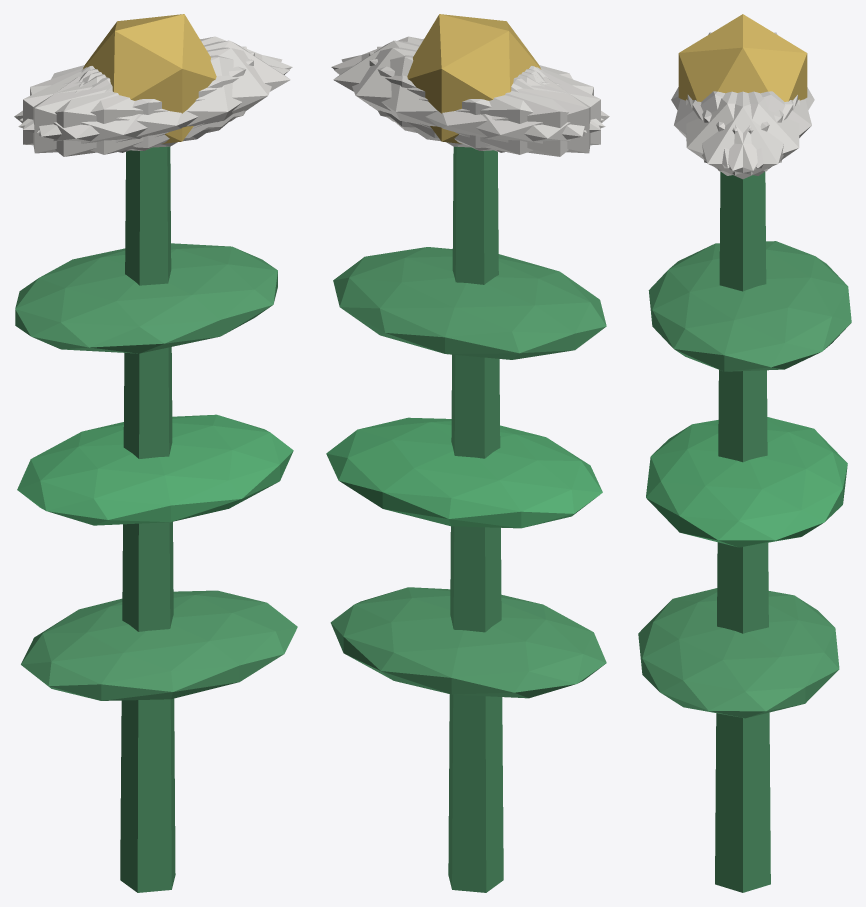
File: diospyros-blancoi.glb
3 renders of one model, left to right at view 1: azimuth 30°, elevation 25°; view 2: azimuth 150°, elevation 25°; view 3: azimuth 270°, elevation 25°, orthographic.
Visible parts, largest first — view 1: stem, leaf0, leaf1, leaf2, center, petal1, petal6, petal2, petal5, petal7, petal0, petal4 (+2 smaller); view 2: stem, leaf2, leaf1, leaf0, center, petal8, petal3, petal7, petal4, petal2, petal0, petal5 (+2 smaller); view 3: stem, leaf1, leaf2, leaf0, center, petal0, petal4, petal5, petal8, petal1.
Part boxes in pixels (<box>): stem: <box>120,146,175,892</box>; leaf0: <box>21,590,297,700</box>; leaf1: <box>17,414,293,525</box>; leaf2: <box>15,243,277,353</box>; center: <box>82,14,216,143</box>; petal1: <box>18,55,289,154</box>; petal6: <box>14,67,210,156</box>; petal2: <box>33,46,246,153</box>; petal5: <box>37,47,282,147</box>; petal7: <box>23,52,254,150</box>; petal0: <box>82,40,290,138</box>; petal4: <box>20,36,292,130</box>; stem: <box>448,146,503,892</box>; leaf2: <box>333,247,606,359</box>; leaf1: <box>326,417,602,528</box>; leaf0: <box>330,587,606,698</box>; center: <box>407,14,541,143</box>; petal8: <box>334,55,605,154</box>; petal3: <box>413,67,609,156</box>; petal7: <box>377,46,590,153</box>; petal4: <box>341,47,586,147</box>; petal2: <box>369,52,600,150</box>; petal0: <box>333,40,541,138</box>; petal5: <box>331,36,603,130</box>; stem: <box>715,171,770,892</box>; leaf1: <box>646,417,847,547</box>; leaf2: <box>648,241,851,371</box>; leaf0: <box>638,588,839,718</box>; center: <box>678,14,807,101</box>; petal0: <box>687,91,797,179</box>; petal4: <box>692,91,799,175</box>; petal5: <box>686,91,793,175</box>; petal8: <box>702,91,811,168</box>; petal1: <box>674,91,783,168</box>.
Bounding box in the file's own units: 0.1452 × 0.4461 × 0.1016.
